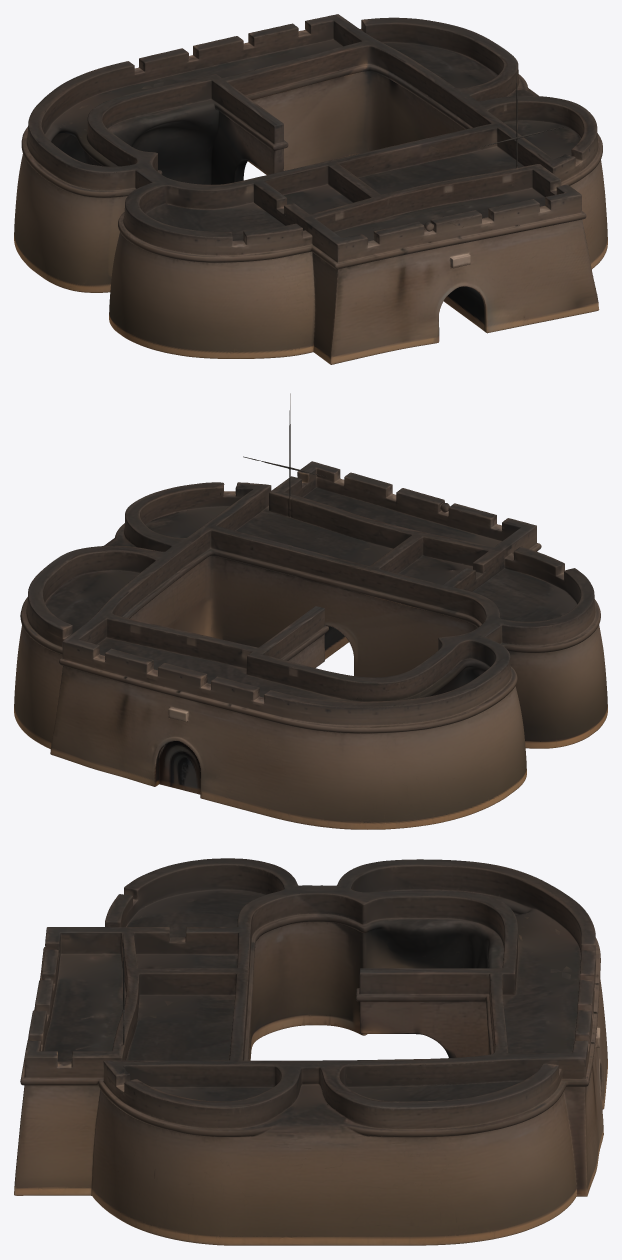
The model's file is 宛平城.glb.
The picture shows the model from 3 angles, top to bottom: view 1: azimuth 30°, elevation 25°; view 2: azimuth 150°, elevation 25°; view 3: azimuth 270°, elevation 25°; orthographic projection. The views are drawn at different scales.
Parts seen in each view (by area): view 1: texture_pbr_v128; view 2: texture_pbr_v128; view 3: texture_pbr_v128.
Part boxes in pixels (x1=…): texture_pbr_v128: x1=14, y1=14, x2=607, y2=364; texture_pbr_v128: x1=14, y1=393, x2=607, y2=829; texture_pbr_v128: x1=14, y1=858, x2=607, y2=1245.
Size of the model in its own units: 1.02 by 0.4541 by 0.9718.
1 material, 1 textured.
